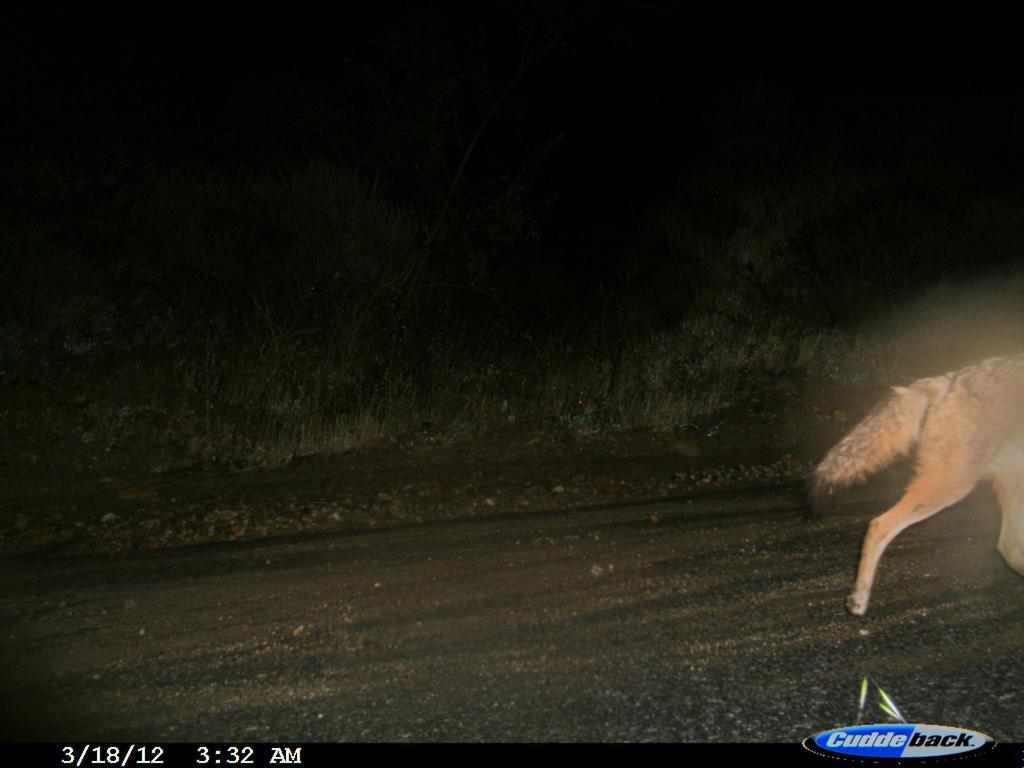coyote: (798, 290, 1023, 637)
